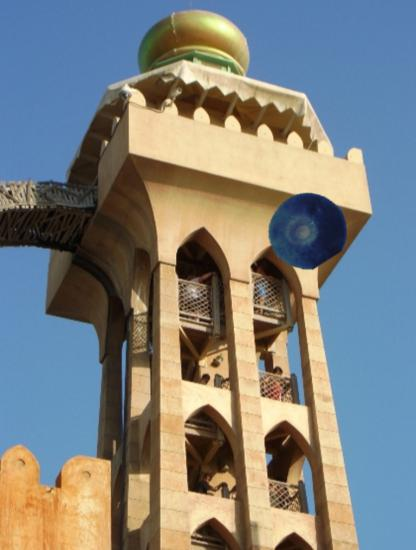Huckleberry: (268, 191, 347, 270)
